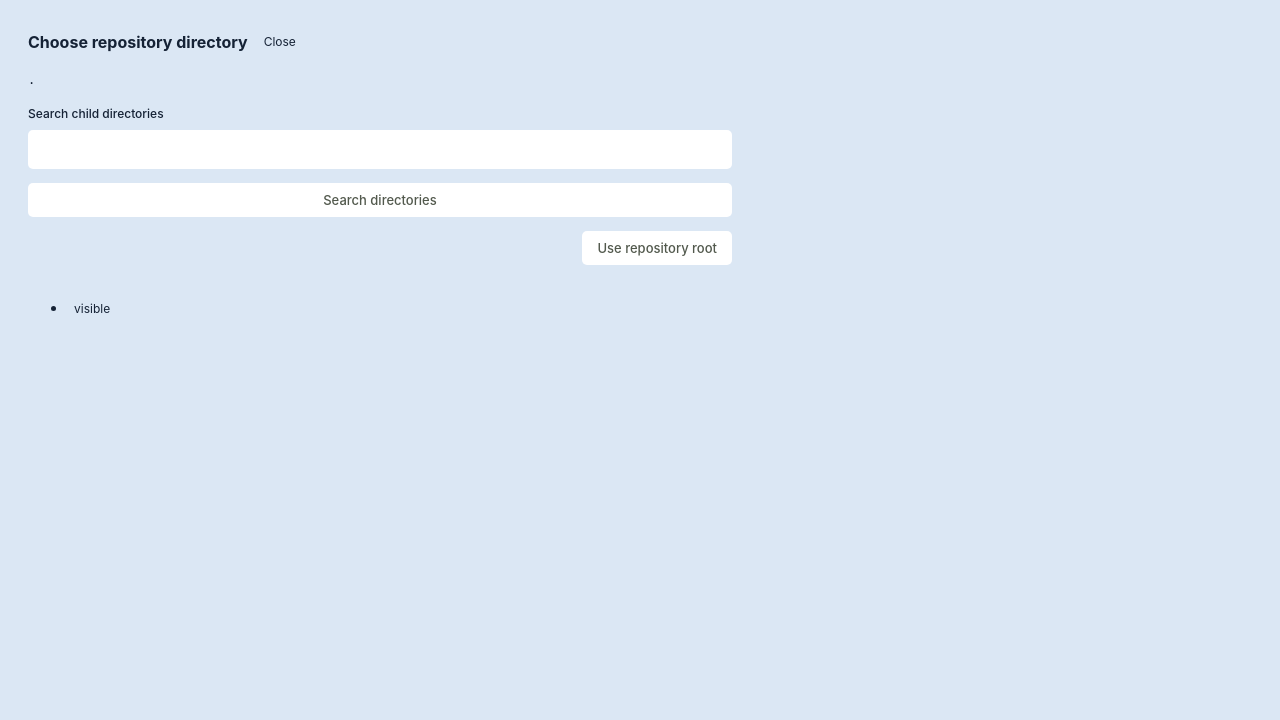
it: a new search cancels the previous query and clearing restores browsing
Expected: the button "visible" is shown, x1=68 y1=295 x2=116 y2=322
Type "slow" into the search field at {"x": 380, "y": 149}, box x1=28 y1=130 x2=732 y2=169
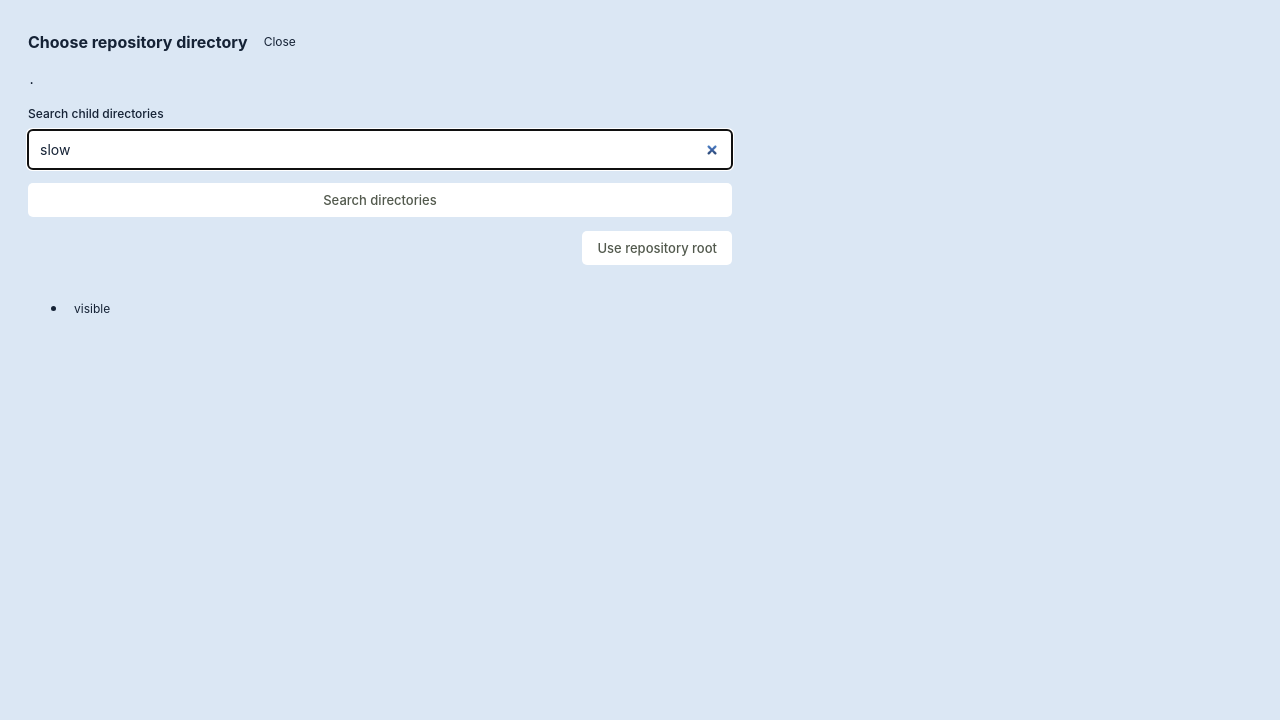
Click the button "Search directories" at {"x": 380, "y": 200}, box x1=28 y1=183 x2=732 y2=217
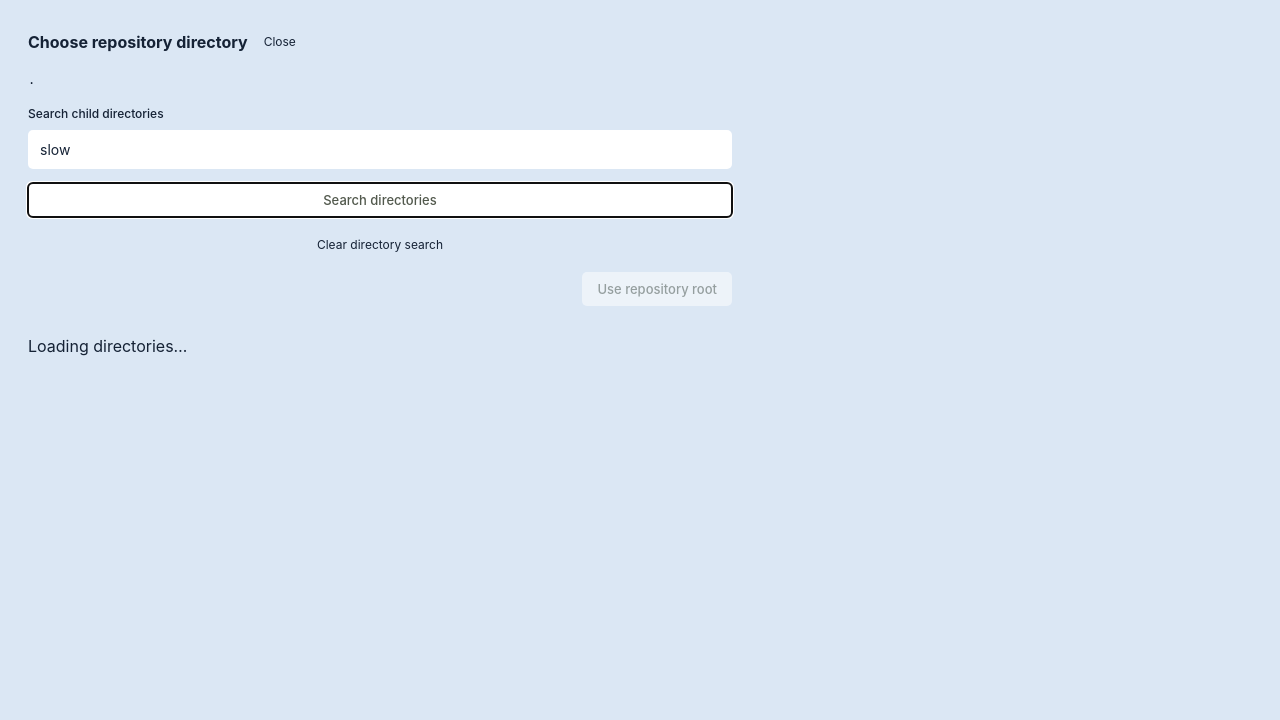
Click the button "Clear directory search" at {"x": 380, "y": 244}, box x1=28 y1=231 x2=732 y2=258
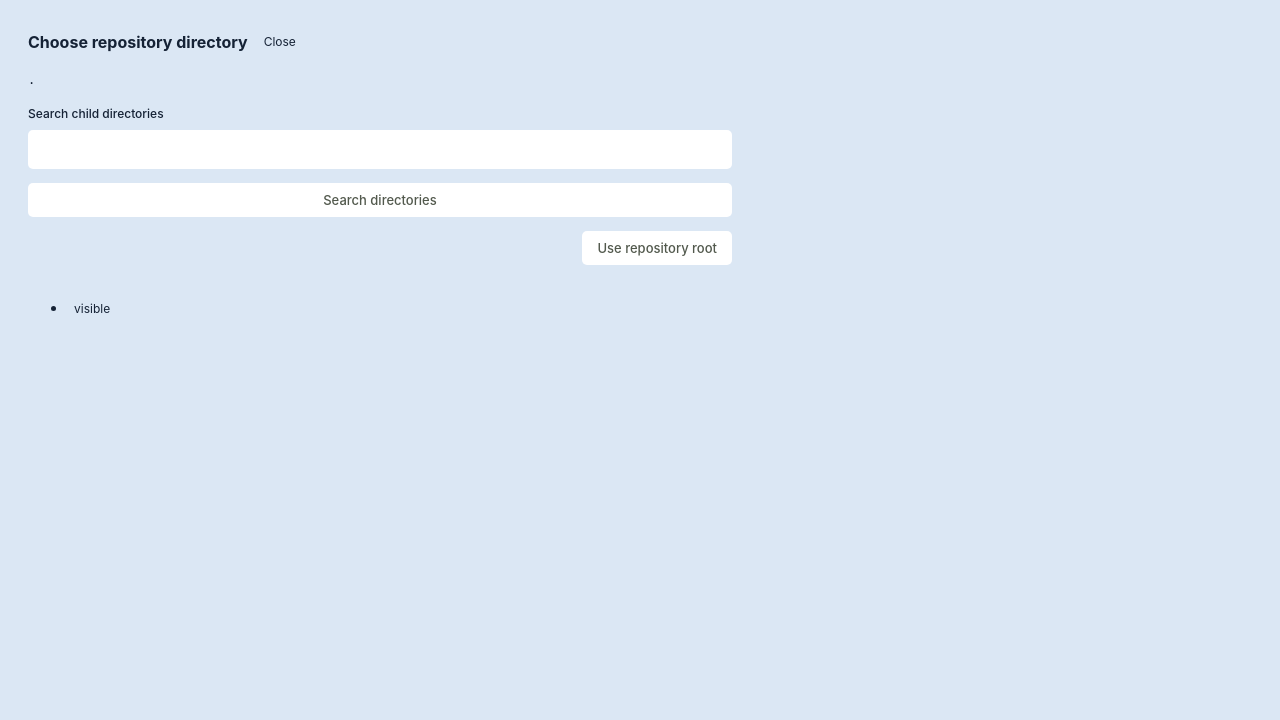
Expected: the button "visible" is shown, x1=68 y1=295 x2=116 y2=322
Expected: the search field is empty, x1=28 y1=130 x2=732 y2=169
